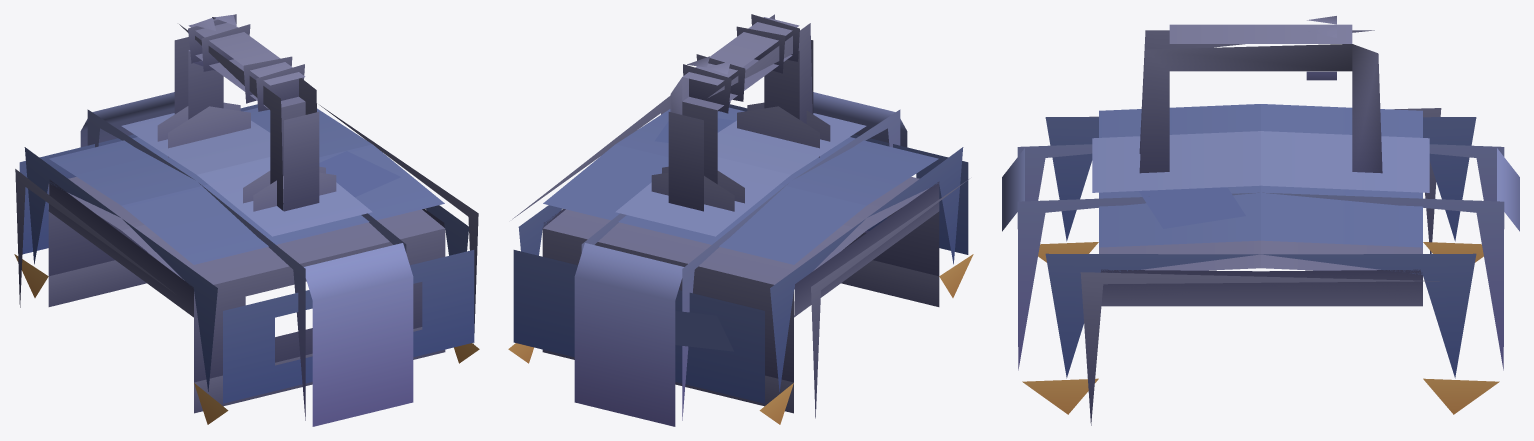
The model's file is SU_Pillbox_LOD2.glb.
The picture shows the model from 3 angles, left to right: view 1: azimuth 30°, elevation 25°; view 2: azimuth 150°, elevation 25°; view 3: azimuth 270°, elevation 25°; orthographic projection. The views are drawn at different scales.
Visible parts, largest first — view 1: machine-fortified, scanner-low; view 2: machine-fortified, scanner-low; view 3: machine-fortified, scanner-low.
Part boxes in pixels (x1,y1,x2,y2): machine-fortified: (14,92,479,426); scanner-low: (157,14,336,211); machine-fortified: (508,92,973,426); scanner-low: (651,14,830,211); machine-fortified: (1002,104,1519,425); scanner-low: (1139,16,1382,173).
Size of what is drawn, in the model's own units: 2.04 by 1.87 by 2.72.
2 materials, 2 textured.
